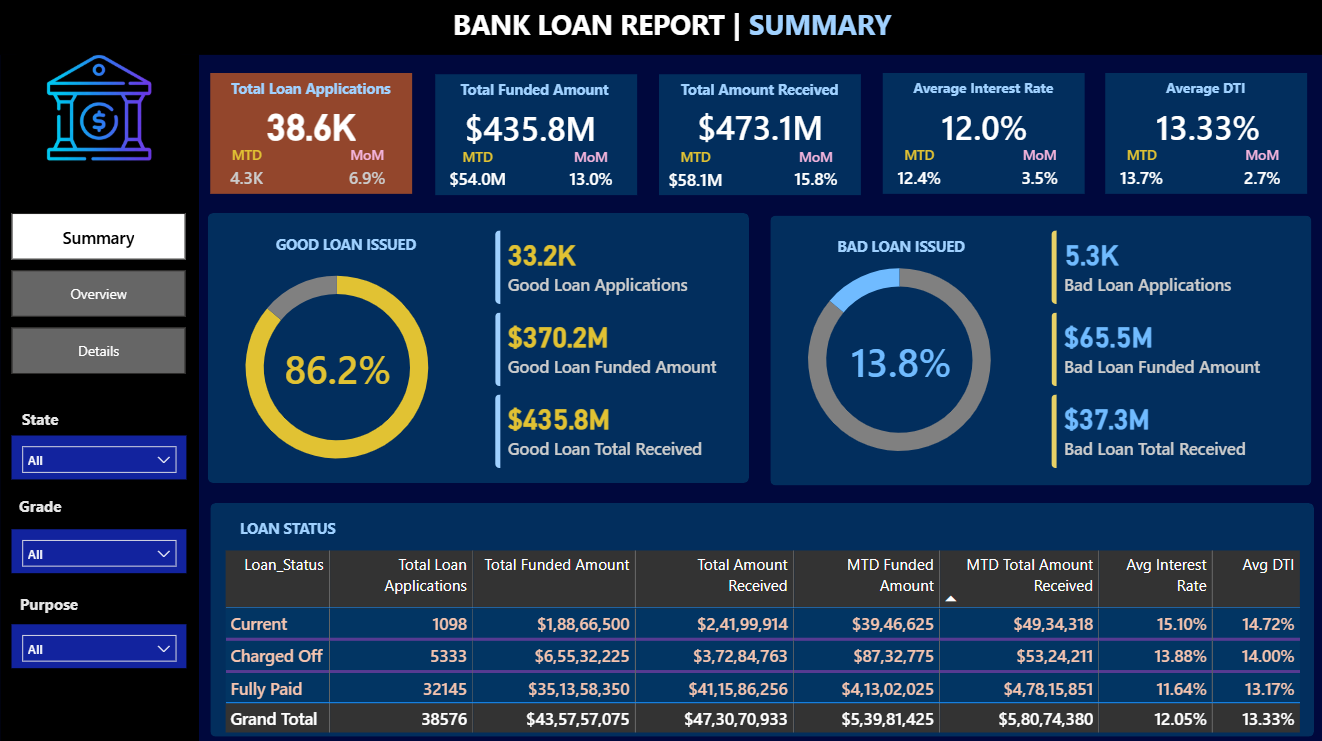

This screenshot's page, from the dashboard's own definition file:
{"tool":"powerbi","page":{"name":"Summary","canvas":[1280,720],"ordinal":0},"visuals":[{"type":"shape","box":[0,0,1280.3,54.9],"z":0},{"type":"textbox","box":[861,72.4,177,31.6],"z":0,"group":"g3"},{"type":"textbox","box":[1076.2,72.4,177,31.6],"z":0,"group":"g4"},{"type":"textbox","box":[645.8,73.6,177,31.6],"z":0,"group":"g5"},{"type":"shape","box":[1.2,54.3,191.8,666],"z":1000},{"type":"cardVisual","fields":{"Data":["Financial_Loan.Total Amount Received"]},"box":[644.1,89.8,181.3,67.7],"z":1000,"group":"g5"},{"type":"textbox","box":[433.6,2.7,447.3,52.1],"z":2000},{"type":"cardVisual","fields":{"Data":["Financial_Loan.Average Interest Rate"]},"box":[877.4,88.9,146.8,68.6],"z":2000,"group":"g3"},{"type":"cardVisual","fields":{"Data":["Financial_Loan.Avg DTI"]},"box":[1085.1,88.9,165.6,67.7],"z":2000,"group":"g4"},{"type":"cardVisual","title":"MTD","fields":{"Data":["Financial_Loan.MTD Total Amount Received"]},"box":[625.2,143.6,94.7,74.1],"z":2000,"group":"g5"},{"type":"shape","box":[852.7,72.4,194.9,116.6],"z":3000,"group":"g7"},{"type":"shape","box":[1067.9,72.4,194.9,116.6],"z":3000,"group":"g8"},{"type":"shape","box":[204.4,72.7,194.9,116.6],"z":3000,"group":"g2"},{"type":"shape","box":[420,73.6,194.9,116.6],"z":3000,"group":"g9"},{"type":"shape","box":[637.5,73.6,194.9,116.6],"z":3000,"group":"g6"},{"type":"cardVisual","title":"MoM","fields":{"Data":["Financial_Loan.MoM Total Amount Received"]},"box":[744.4,143.2,88.1,73.6],"z":3000,"group":"g5"},{"type":"shape","box":[201.5,207.5,522.4,260.6],"z":3000},{"type":"textbox","box":[212.7,72.7,177,31.6],"z":4000,"group":"g2"},{"type":"textbox","box":[428.2,73.6,177,31.6],"z":4000,"group":"g9"},{"type":"cardVisual","title":"MTD","fields":{"Data":["Financial_Loan.MTD Average Interest Rate"]},"box":[840.4,142.4,94.7,74.1],"z":4000,"group":"g3"},{"type":"cardVisual","title":"MTD","fields":{"Data":["Financial_Loan.MTD Average DTI"]},"box":[1055.6,142.4,94.7,74.1],"z":4000,"group":"g4"},{"type":"cardVisual","fields":{"Data":["Financial_Loan.Good Loan %"]},"box":[230.4,322.1,193,68.8],"z":4000},{"type":"cardVisual","fields":{"Data":["Financial_Loan.Total Loan Applications"]},"box":[229.1,89.2,146.8,68.6],"z":5000,"group":"g2"},{"type":"cardVisual","fields":{"Data":["Financial_Loan.Total Funded Amount"]},"box":[408.5,89.8,208.7,70],"z":5000,"group":"g9"},{"type":"textbox","box":[12.1,390.9,55.5,31.4],"z":5000},{"type":"group","id":"g1","title":"Group 1","box":[192.1,72.7,207.2,144.1],"z":6000},{"type":"cardVisual","title":"MoM","fields":{"Data":["Financial_Loan.MoM Average Interest Rate"]},"box":[959.6,142,88.1,73.6],"z":6000,"group":"g3"},{"type":"cardVisual","title":"MoM","fields":{"Data":["Financial_Loan.MoM Average DTI"]},"box":[1174.8,142,88.1,73.6],"z":6000,"group":"g4"},{"type":"cardVisual","title":"MTD","fields":{"Data":["Financial_Loan.MTD Loan Applications"]},"box":[192.1,142.7,94.7,74.1],"z":6000,"group":"g2"},{"type":"cardVisual","title":"MTD","fields":{"Data":["Financial_Loan.MTD Funded Amount"]},"box":[407.3,144.1,108.6,73.6],"z":6000,"group":"g9"},{"type":"group","id":"g2","title":"Group 4","box":[192.1,72.7,207.2,144.1],"z":6001,"group":"g1"},{"type":"cardVisual","title":"MoM","fields":{"Data":["Financial_Loan.MoM Loan Applications"]},"box":[311.3,142.3,88.1,73.6],"z":7000,"group":"g2"},{"type":"cardVisual","title":"MoM","fields":{"Data":["Financial_Loan.MoM Total Funded Amount"]},"box":[526.8,143.2,88.1,73.6],"z":7000,"group":"g9"},{"type":"textbox","box":[246.1,223.2,177.3,31.4],"z":7000},{"type":"group","id":"g3","title":"Group 2","box":[840.4,72.4,207.2,144.1],"z":7003,"group":"g7"},{"type":"group","id":"g4","title":"Group 2","box":[1055.6,72.4,207.2,144.1],"z":7003,"group":"g8"},{"type":"group","id":"g5","title":"Group 2","box":[625.2,73.6,207.2,144.1],"z":7003,"group":"g6"},{"type":"group","id":"g6","title":"Group 1","box":[625.2,73.6,207.2,144.1],"z":8000},{"type":"group","id":"g7","title":"Group 1","box":[840.4,72.4,207.2,144.1],"z":9000},{"type":"group","id":"g8","title":"Group 1","box":[1055.6,72.4,207.2,144.1],"z":10000},{"type":"group","id":"g9","title":"Group 4","box":[407.3,73.6,209.9,144.1],"z":11000},{"type":"shape","box":[744.4,209.9,522.4,260.6],"z":12000},{"type":"donutChart","fields":{"Category":["Financial_Loan.Good v Bad Loan"],"Y":["Financial_Loan.Total Loan Applications"]},"box":[201.5,241.3,249.7,230.4],"z":13000},{"type":"cardVisual","fields":{"Data":["Financial_Loan.Good Loan Applications","Financial_Loan.Good Loan Funded Amount","Financial_Loan.Good Loan Total Received"]},"box":[462.1,207.5,267.8,264.2],"z":14000},{"type":"donutChart","fields":{"Category":["Financial_Loan.Good v Bad Loan"],"Y":["Financial_Loan.Total Loan Applications"]},"box":[744.4,234,249.7,230.4],"z":15000},{"type":"textbox","box":[781.8,225.6,177.3,31.4],"z":16000},{"type":"cardVisual","fields":{"Data":["Financial_Loan.Bad Loan %"]},"box":[790.2,311.3,161.7,76],"z":17000},{"type":"cardVisual","fields":{"Data":["Financial_Loan.Bad Loan Applications","Financial_Loan.Bad Loan Funded Amount","Financial_Loan.Bad Loan Total Received"]},"box":[998.9,207.5,267.8,264.2],"z":18000},{"type":"shape","box":[203.9,487.4,1065.3,225.6],"z":19000},{"type":"tableEx","fields":{"Values":["Financial_Loan.loan_status","Financial_Loan.Total Loan Applications","Financial_Loan.Total Funded Amount","Financial_Loan.Total Amount Received","Financial_Loan.MTD Funded Amount","Financial_Loan.MTD Total Amount Received","Financial_Loan.Avg Interest Rate","Financial_Loan.Avg DTI"]},"box":[212.3,528.4,1050.8,191.8],"z":20000},{"type":"textbox","box":[212.3,497.1,132.7,31.4],"z":21000},{"type":"slicer","fields":{"Values":["Financial_Loan.address_state"]},"box":[12.1,422.3,168.9,42.2],"z":22000},{"type":"slicer","fields":{"Values":["Financial_Loan.purpose"]},"box":[12.1,604.4,168.9,42.2],"z":23000},{"type":"textbox","box":[12.1,475.3,55.5,31.4],"z":24000},{"type":"slicer","fields":{"Values":["Financial_Loan.grade"]},"box":[12.1,512.7,168.9,42.2],"z":25000},{"type":"textbox","box":[0,569.4,96.5,31.4],"z":26000},{"type":"pageNavigator","box":[12.1,207.5,168.9,155.6],"z":27000},{"type":"image","box":[16.9,22.9,159.3,167.7],"z":28000}]}

Visuals, with their boxes in screenshot pixels (x1, y1, x2, y2), scaled from the page's 1280x720 canvas onto the 1322x741 screenshot:
shape: 0,0,1321,57
textbox: 889,75,1072,107
textbox: 1112,75,1294,107
textbox: 667,76,850,108
shape: 1,56,199,740
cardVisual - Financial_Loan.Total Amount Received: 665,92,852,162
textbox: 448,3,910,56
cardVisual - Financial_Loan.Average Interest Rate: 906,91,1058,162
cardVisual - Financial_Loan.Avg DTI: 1121,91,1292,161
"MTD" cardVisual: 646,148,744,224
shape: 881,75,1082,195
shape: 1103,75,1304,195
shape: 211,75,412,195
shape: 434,76,635,196
shape: 658,76,860,196
"MoM" cardVisual: 769,147,860,223
shape: 208,214,748,482
textbox: 220,75,402,107
textbox: 442,76,625,108
"MTD" cardVisual: 868,147,966,223
"MTD" cardVisual: 1090,147,1188,223
cardVisual - Financial_Loan.Good Loan %: 238,331,437,402
cardVisual - Financial_Loan.Total Loan Applications: 237,92,388,162
cardVisual - Financial_Loan.Total Funded Amount: 422,92,637,164
textbox: 12,402,70,435
"Group 1" group: 198,75,412,223
"MoM" cardVisual: 991,146,1082,222
"MoM" cardVisual: 1213,146,1304,222
"MTD" cardVisual: 198,147,296,223
"MTD" cardVisual: 421,148,533,224
"Group 4" group: 198,75,412,223
"MoM" cardVisual: 322,146,413,222
"MoM" cardVisual: 544,147,635,223
textbox: 254,230,437,262
"Group 2" group: 868,75,1082,223
"Group 2" group: 1090,75,1304,223
"Group 2" group: 646,76,860,224
"Group 1" group: 646,76,860,224
"Group 1" group: 868,75,1082,223
"Group 1" group: 1090,75,1304,223
"Group 4" group: 421,76,637,224
shape: 769,216,1308,484
donutChart - Financial_Loan.Good v Bad Loan x Financial_Loan.Total Loan Applications: 208,248,466,485
cardVisual - Financial_Loan.Good Loan Applications x Financial_Loan.Good Loan Funded Amount: 477,214,754,485
donutChart - Financial_Loan.Good v Bad Loan x Financial_Loan.Total Loan Applications: 769,241,1027,478
textbox: 807,232,991,264
cardVisual - Financial_Loan.Bad Loan %: 816,320,983,399
cardVisual - Financial_Loan.Bad Loan Applications x Financial_Loan.Bad Loan Funded Amount: 1032,214,1308,485
shape: 211,502,1311,734
tableEx - Financial_Loan.loan_status x Financial_Loan.Total Loan Applications: 219,544,1305,740
textbox: 219,512,356,544
slicer - Financial_Loan.address_state: 12,435,187,478
slicer - Financial_Loan.purpose: 12,622,187,665
textbox: 12,489,70,521
slicer - Financial_Loan.grade: 12,528,187,571
textbox: 0,586,100,618
pageNavigator: 12,214,187,374
image: 17,24,182,196
